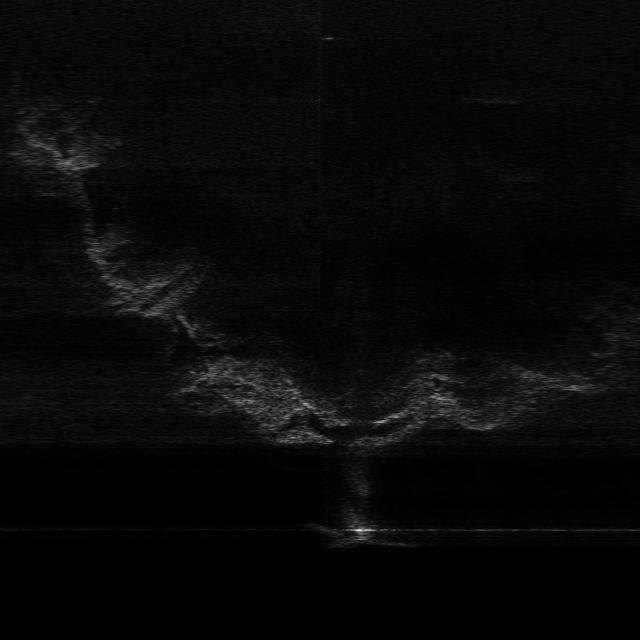plane: (307, 518, 427, 550)
